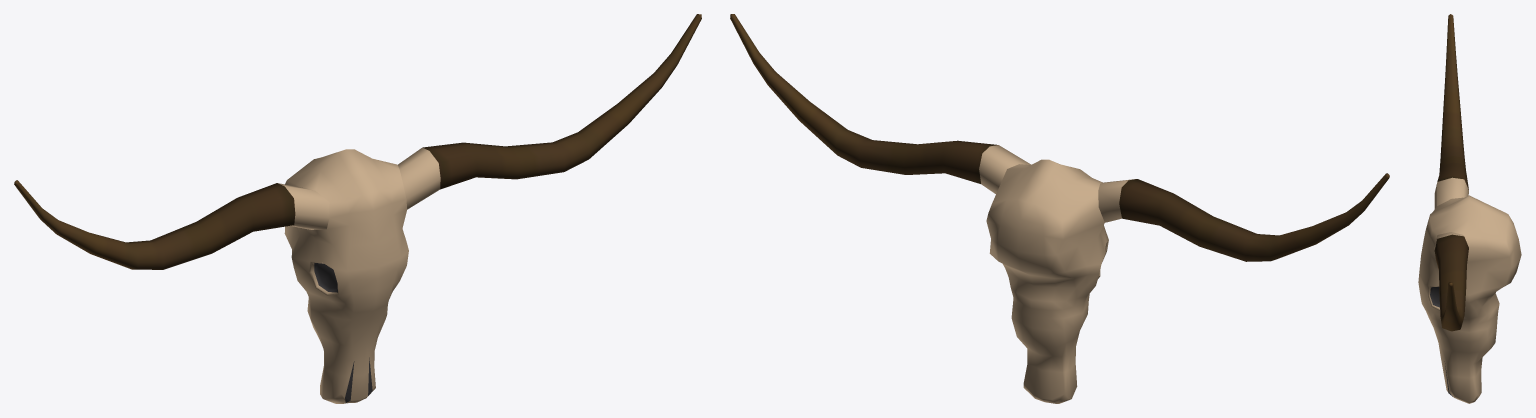
The model's file is SM_Prop_LonghornSkull_01.obj.
3 views of the same model, side by side, from view 1: azimuth 30°, elevation 25°; view 2: azimuth 150°, elevation 25°; view 3: azimuth 270°, elevation 25° (orthographic). The views are drawn at different scales.
Visible parts, largest first — view 1: SM_Prop_LonghornSkull_01_Mat_SwatchOverlay_Farm_01_Inst; view 2: SM_Prop_LonghornSkull_01_Mat_SwatchOverlay_Farm_01_Inst; view 3: SM_Prop_LonghornSkull_01_Mat_SwatchOverlay_Farm_01_Inst.
Part boxes in pixels (<box>): SM_Prop_LonghornSkull_01_Mat_SwatchOverlay_Farm_01_Inst: <box>14,14,701,403</box>; SM_Prop_LonghornSkull_01_Mat_SwatchOverlay_Farm_01_Inst: <box>730,14,1389,403</box>; SM_Prop_LonghornSkull_01_Mat_SwatchOverlay_Farm_01_Inst: <box>1418,14,1521,403</box>.
Bounding box in the file's own units: 2.4 × 1.04 × 0.3874.
1 material, 1 textured.
